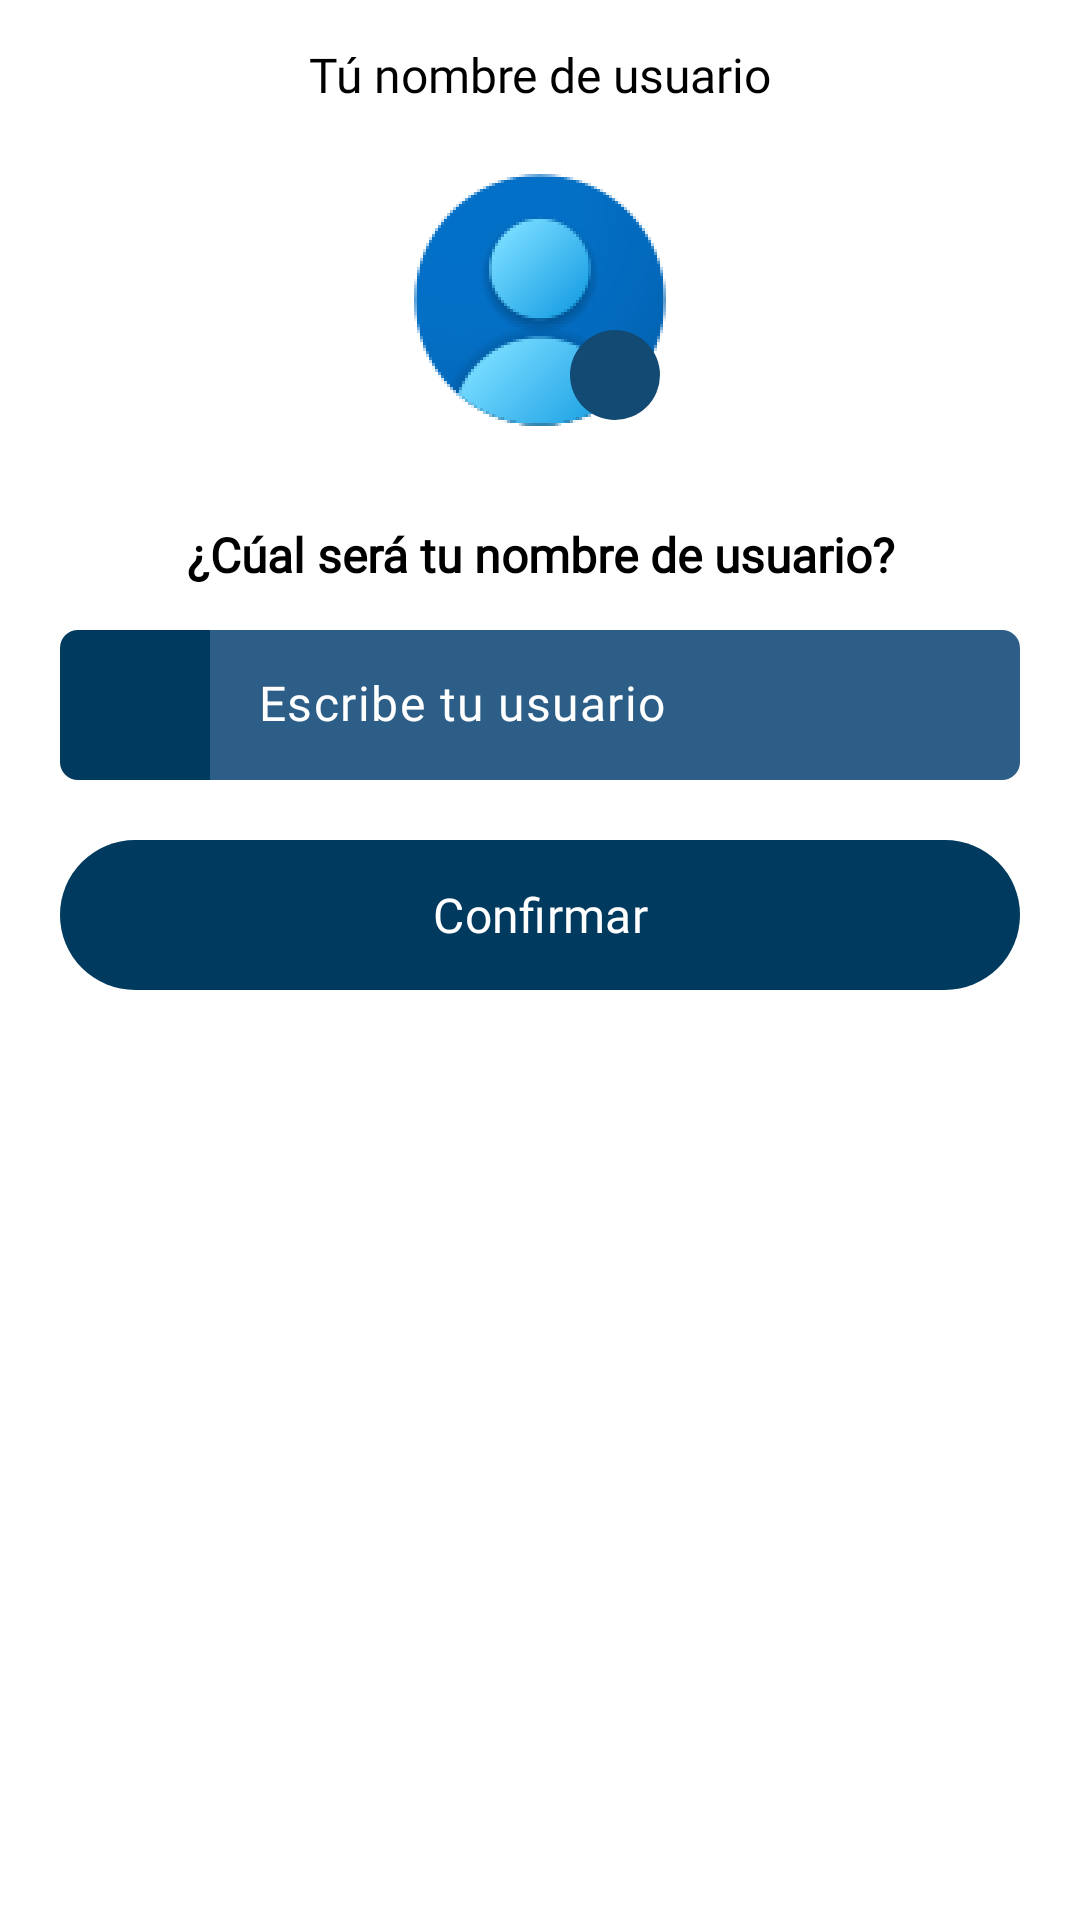

Icon bounding boxes for this 1080×1920 phone screenshot, format {"left": x1, "top": y1, "right": x2, "bottom": y2}:
profile: {"left": 414, "top": 174, "right": 666, "bottom": 426}
